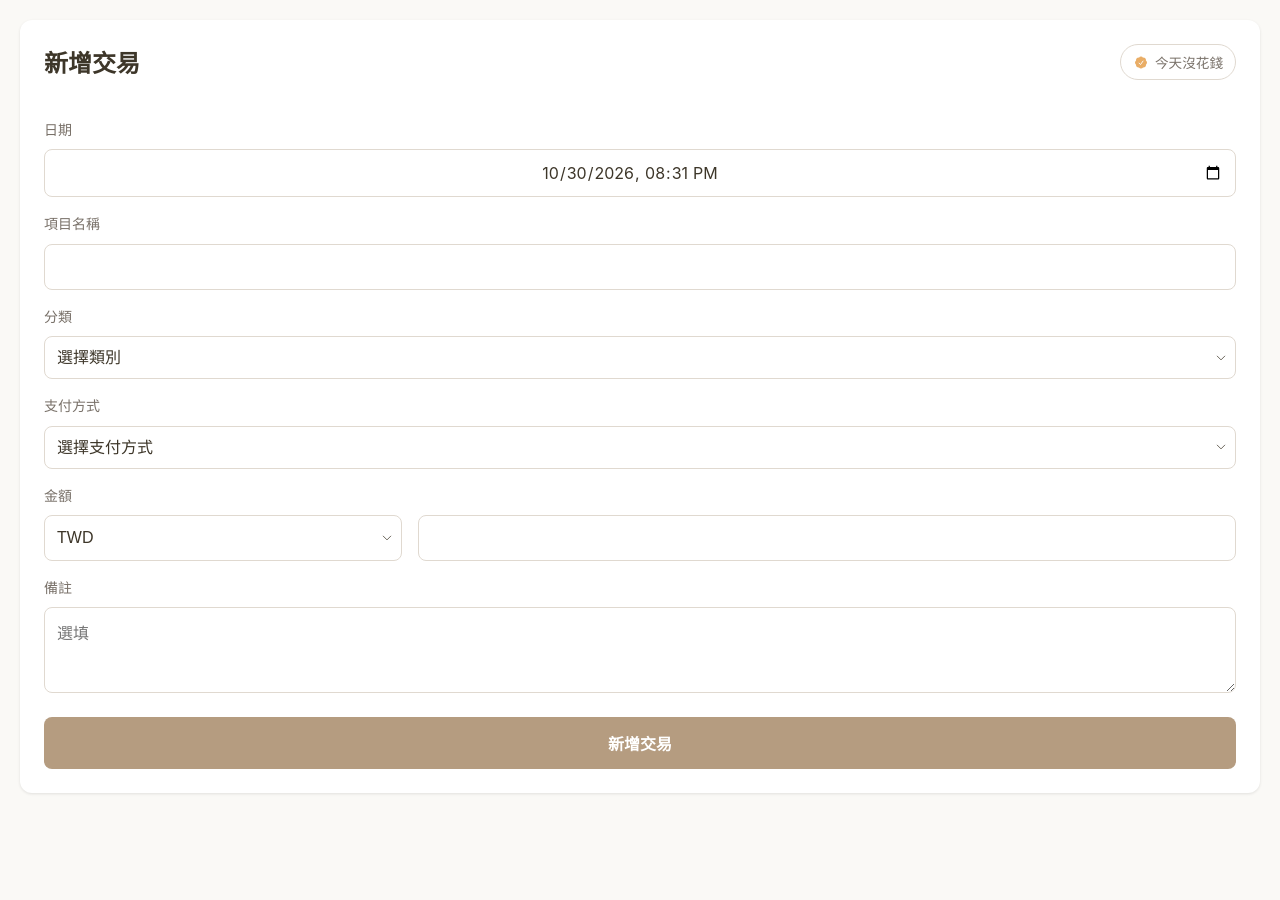
Scenario: 新增交易 › 有費率＋外幣自動：台幣不勾，改成 GBP 自動勾，改回 TWD 取消
Select "英國卡" in the dropdown with id "method" at (640, 447), box [44,426,1236,468]
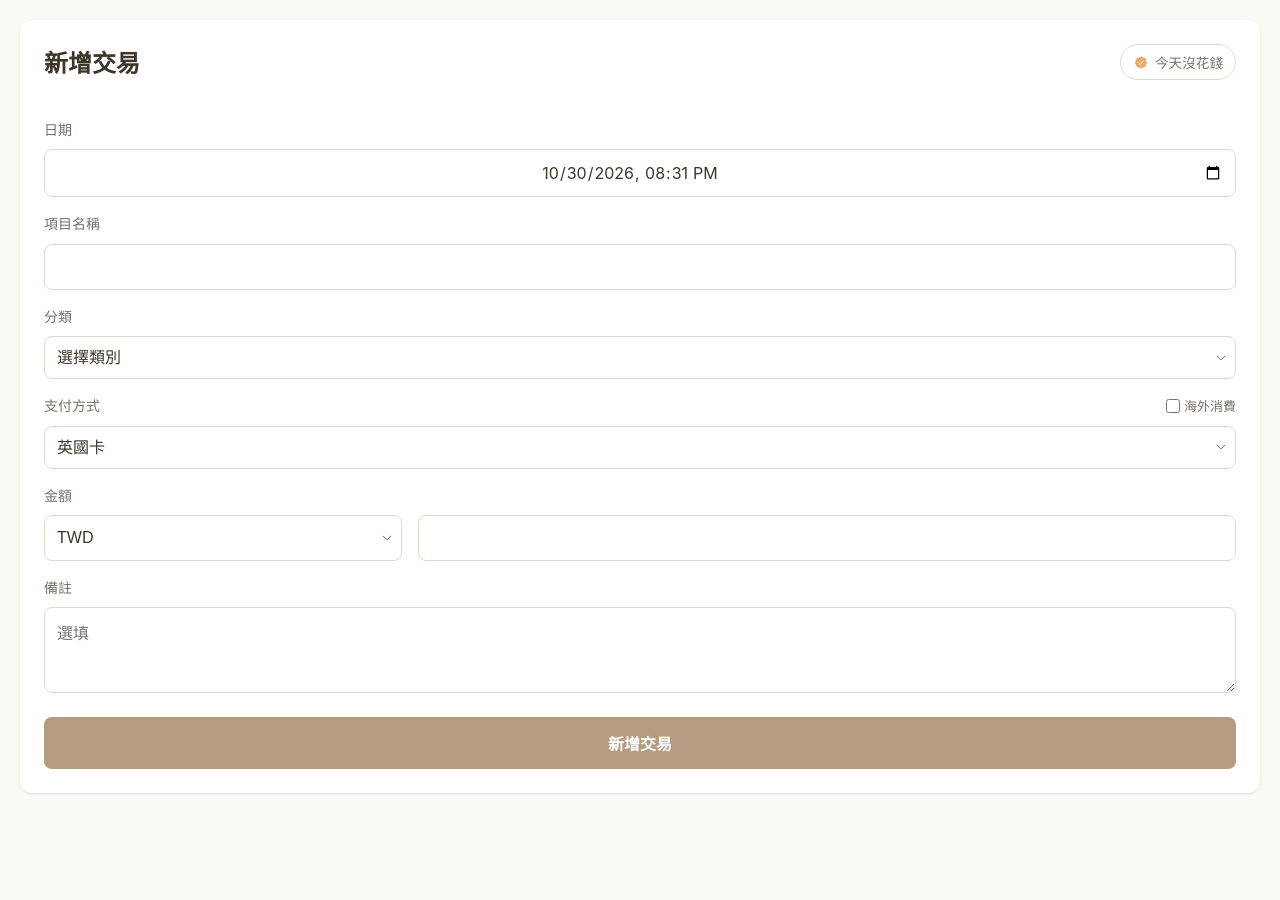
expect the checkbox with id "overseas" is not checked: met, box [1166,399,1180,413]
Select "GBP" in the dropdown with id "currency" at (223, 538), box [44,515,402,561]
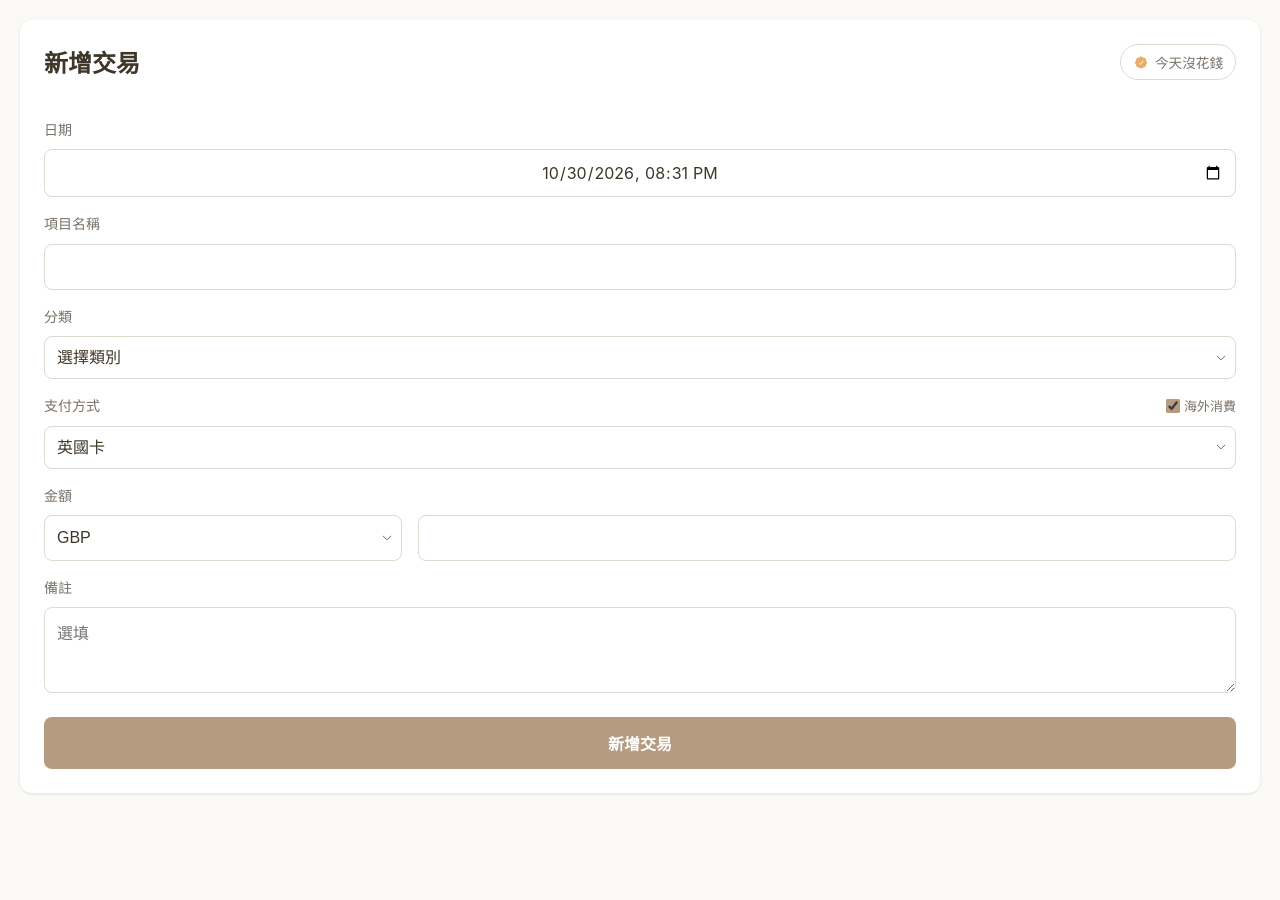
expect the checkbox with id "overseas" is checked: met, box [1166,399,1180,413]
Select "TWD" in the dropdown with id "currency" at (223, 538), box [44,515,402,561]
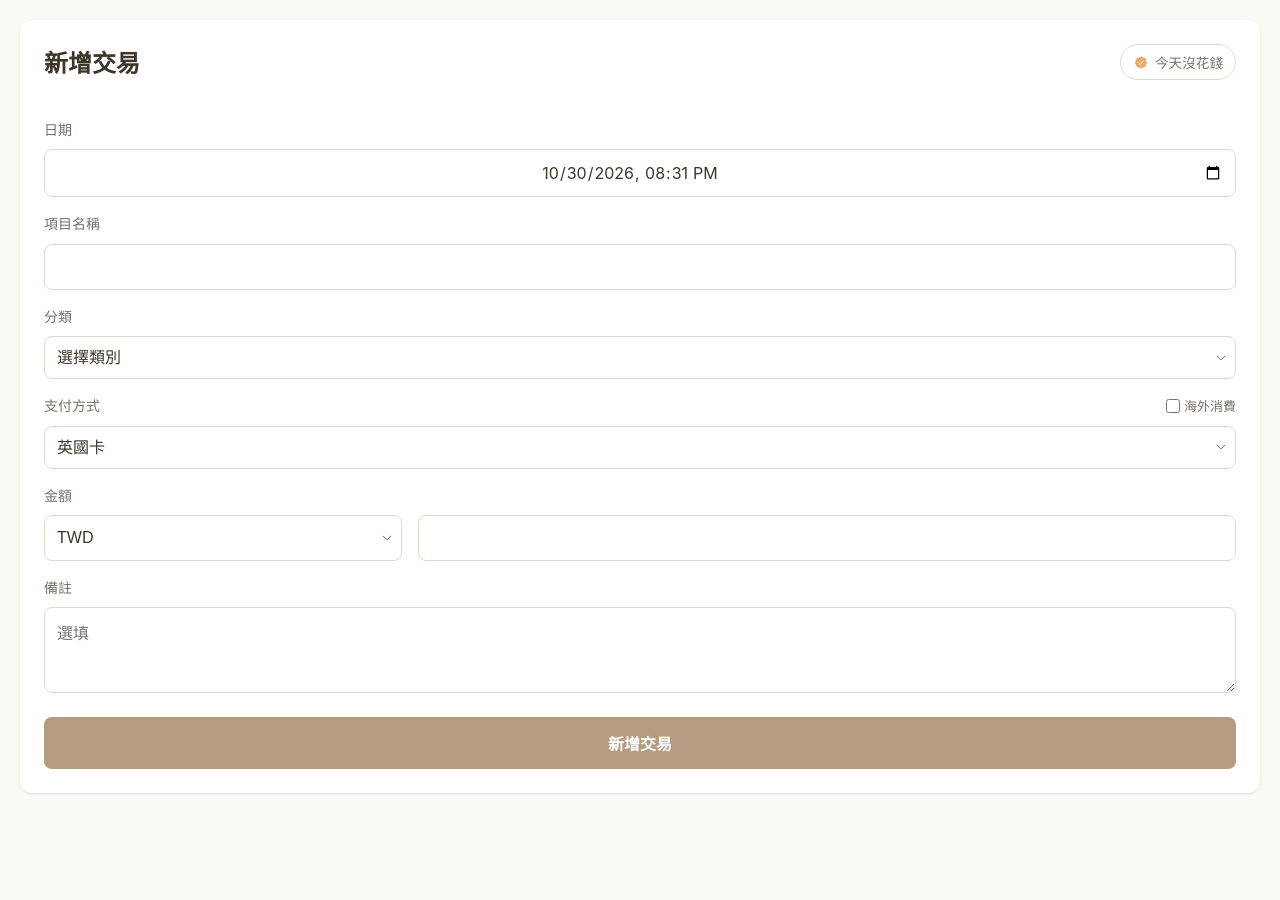
expect the checkbox with id "overseas" is not checked: met, box [1166,399,1180,413]
